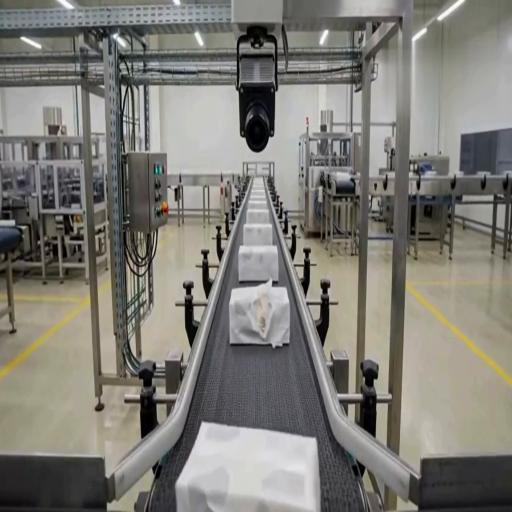defective: (177, 420, 318, 512), (229, 280, 290, 348)
good: (237, 244, 279, 284), (242, 222, 273, 247), (245, 206, 271, 224), (246, 196, 269, 212), (248, 182, 268, 196), (246, 174, 268, 185)
